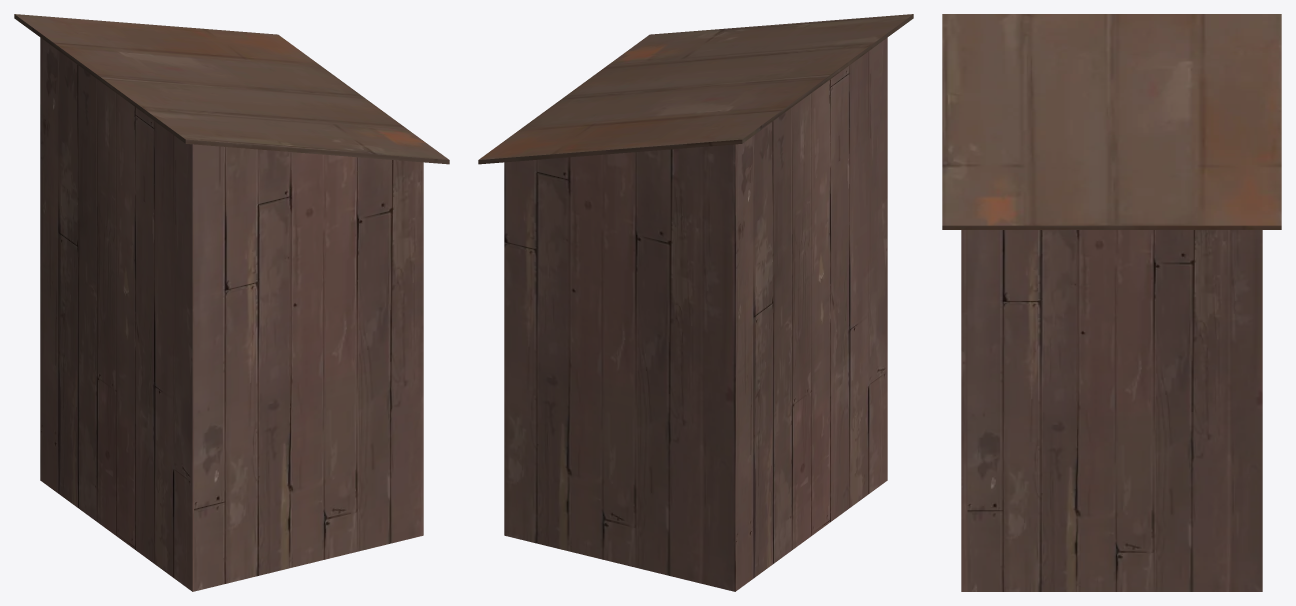
3 views of the same model, side by side, from view 1: azimuth 30°, elevation 25°; view 2: azimuth 150°, elevation 25°; view 3: azimuth 270°, elevation 25° (orthographic).
Visible parts, largest first — view 1: body0_model0_lod0_mesh1, body0_model0_lod0_mesh0; view 2: body0_model0_lod0_mesh1, body0_model0_lod0_mesh0; view 3: body0_model0_lod0_mesh1, body0_model0_lod0_mesh0.
Part boxes in pixels (left/top/right/bottom): body0_model0_lod0_mesh1: left=40, top=37, right=423, bottom=591; body0_model0_lod0_mesh0: left=14, top=14, right=449, bottom=164; body0_model0_lod0_mesh1: left=504, top=37, right=887, bottom=591; body0_model0_lod0_mesh0: left=478, top=14, right=913, bottom=164; body0_model0_lod0_mesh1: left=961, top=230, right=1262, bottom=591; body0_model0_lod0_mesh0: left=942, top=14, right=1281, bottom=229.
Bounding box in the file's own units: 128 × 215 × 144.
2 materials, 2 textured.
